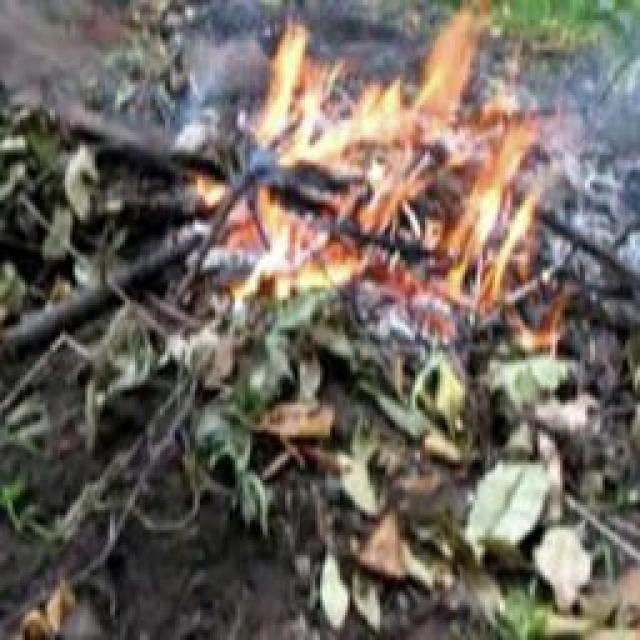Fire: (211, 45, 557, 304)
